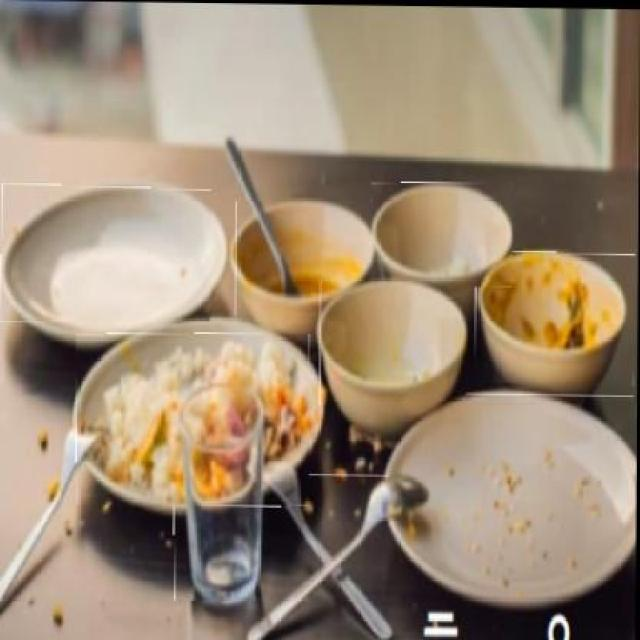Bowl: (476, 249, 636, 386), (318, 278, 469, 406), (235, 200, 385, 319), (371, 180, 514, 287)
Glass: (172, 382, 270, 602)
Plate: (389, 391, 637, 595), (77, 331, 313, 507), (2, 184, 214, 326)
